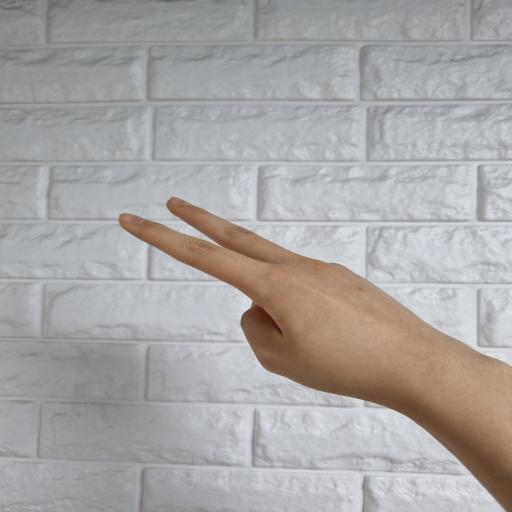Scissors: (117, 196, 452, 412)
